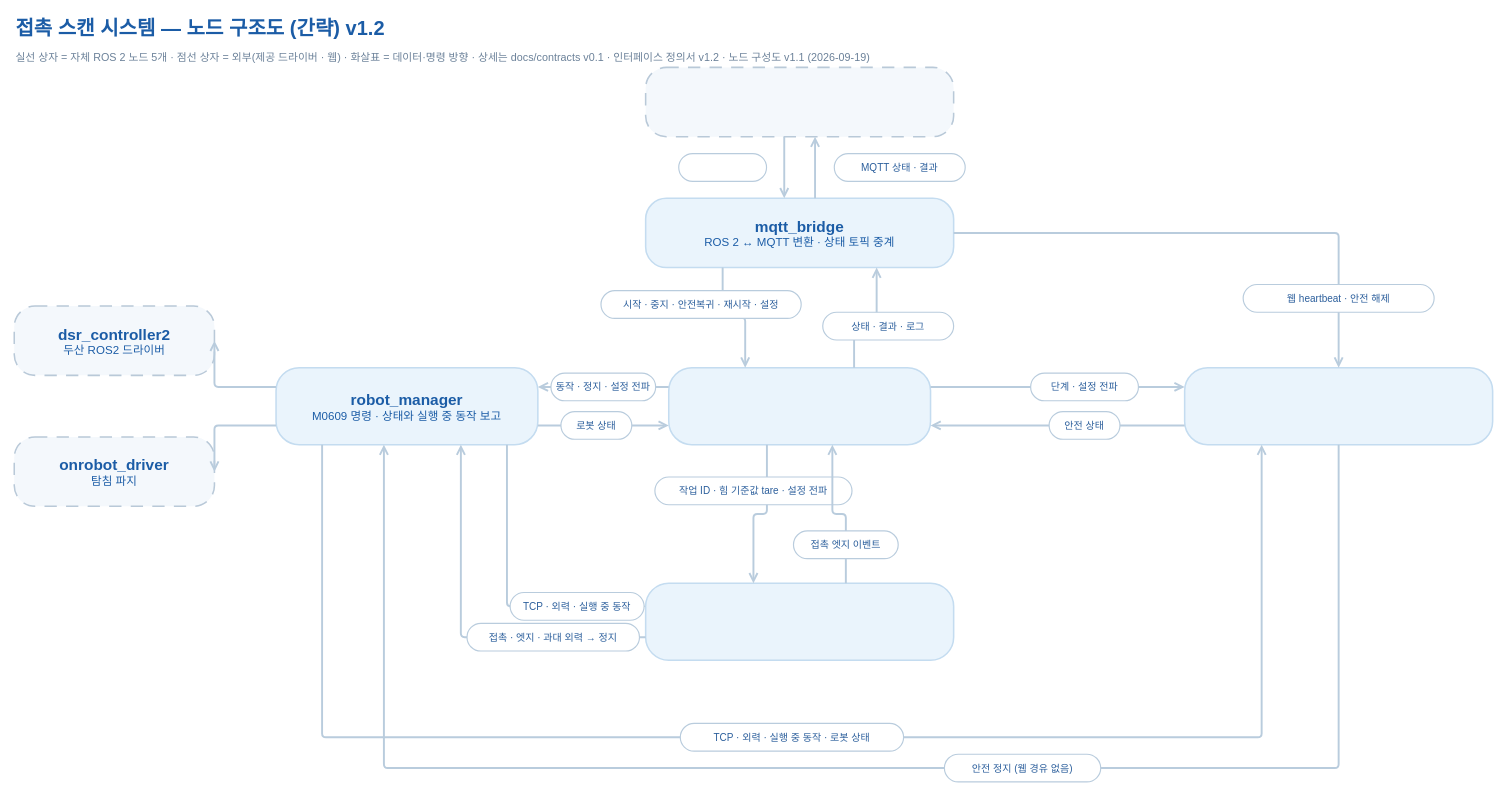
The diagram is 1506 pixels wide and 795 high, and some of its shapes have lost their labels. Each missing label, with the centre of its shape:
contact_detector 접촉과 엣지 판정: point 799,621
MQTT 명령: point 722,167
safety_monitor 이상 감시 · 로컬 정지 · 래치: point 1338,406
scan_manager 상태 머신 · 작업 제어 · 형상 계산 · 원본 보관: point 799,406
웹 관제 React · FastAPI · MQTT Broker: point 799,101
